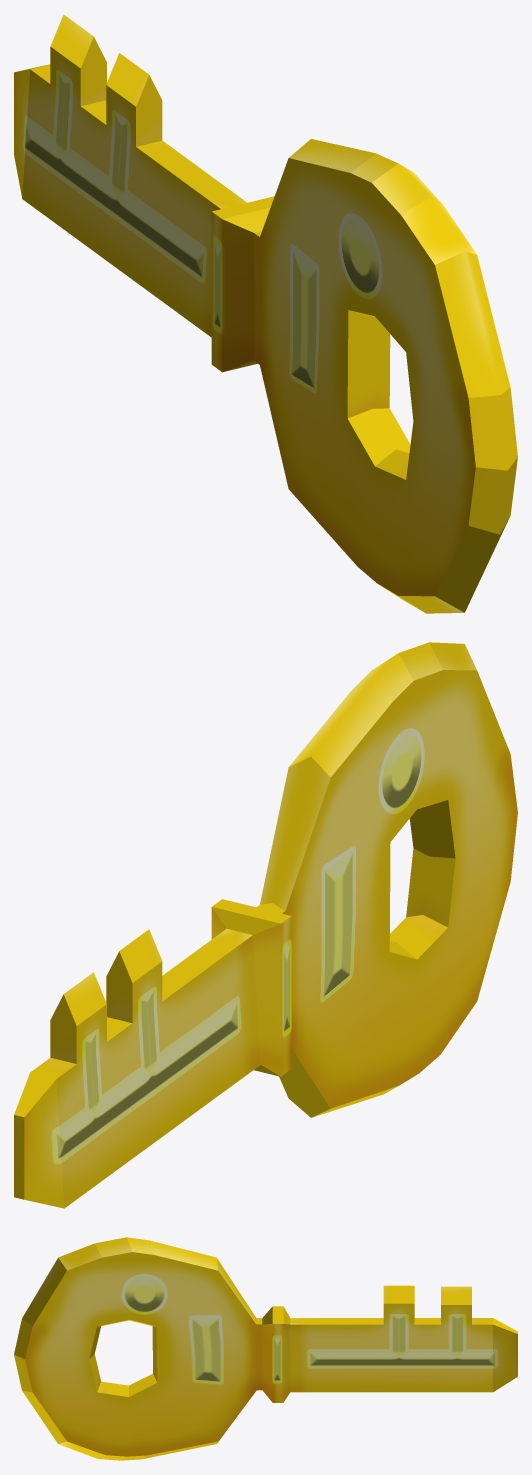
Rendered from llave.obj.
3 renders of one model, top to bottom at view 1: azimuth 30°, elevation 25°; view 2: azimuth 150°, elevation 25°; view 3: azimuth 270°, elevation 25°, orthographic. The views are drawn at different scales.
Visible parts, largest first — view 1: llave.obj; view 2: llave.obj; view 3: llave.obj.
Part boxes in pixels (bbox=[...]): llave.obj: bbox=[14, 14, 517, 613]; llave.obj: bbox=[14, 642, 517, 1208]; llave.obj: bbox=[14, 1237, 517, 1460].
Size of the model in its own units: 0.0175 by 0.1048 by 0.2142.
